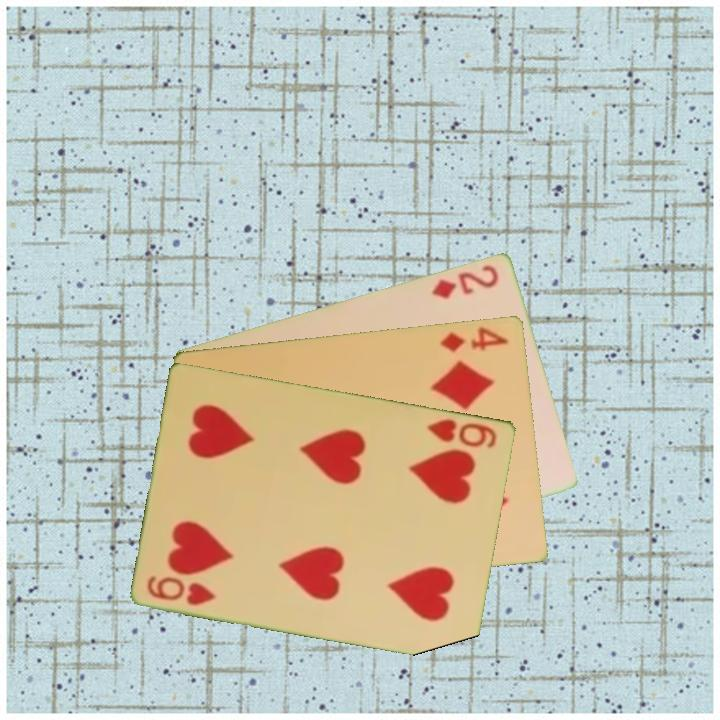2d: (428, 261, 502, 301)
4d: (437, 322, 511, 355)
6h: (423, 415, 500, 451), (143, 572, 219, 608)
